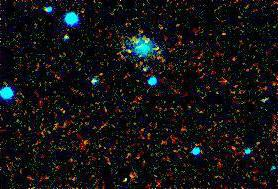star: (114, 35, 144, 65)
